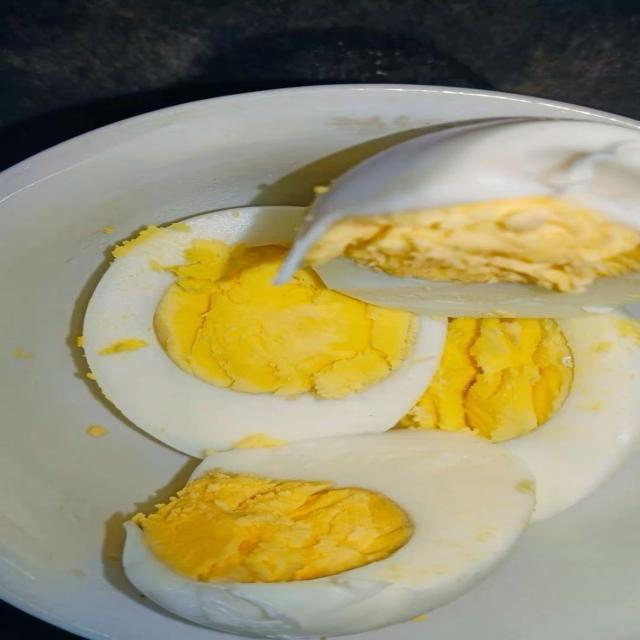egg boiled: (84, 207, 446, 456), (124, 431, 533, 638), (288, 119, 639, 317), (401, 312, 639, 520), (499, 312, 639, 520)
